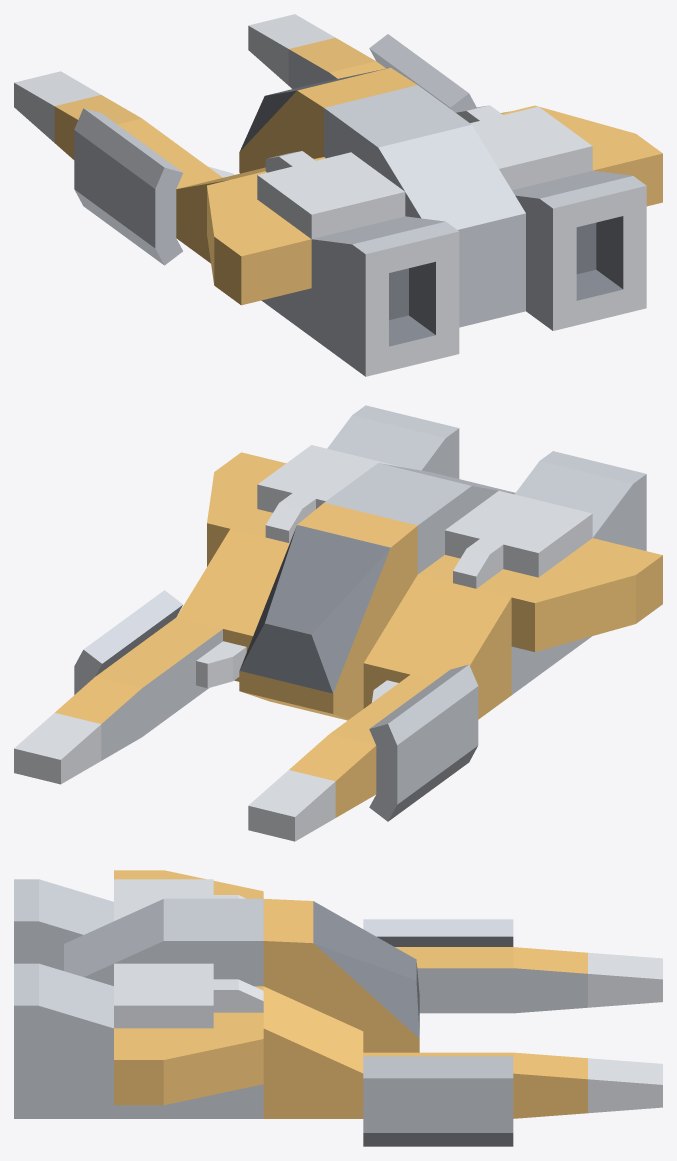
Rendered from mining_craft.glb.
3 views of the same model, one above another, from view 1: azimuth 30°, elevation 25°; view 2: azimuth 150°, elevation 25°; view 3: azimuth 270°, elevation 25° (orthographic). The views are drawn at different scales.
Parts seen in each view (by area): view 1: craft_miner; view 2: craft_miner; view 3: craft_miner.
Boxes of the visible parts, x1,y1,x2,y2 form: craft_miner: (14, 14, 662, 376); craft_miner: (14, 405, 662, 841); craft_miner: (14, 870, 662, 1146).
Size of the model in its own units: 1.8 by 0.6999 by 2.6.
